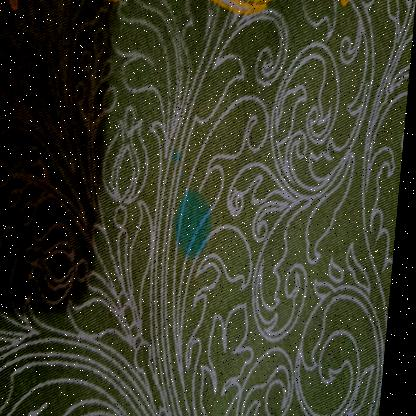spot: (172, 177, 237, 263), (171, 134, 200, 174)
